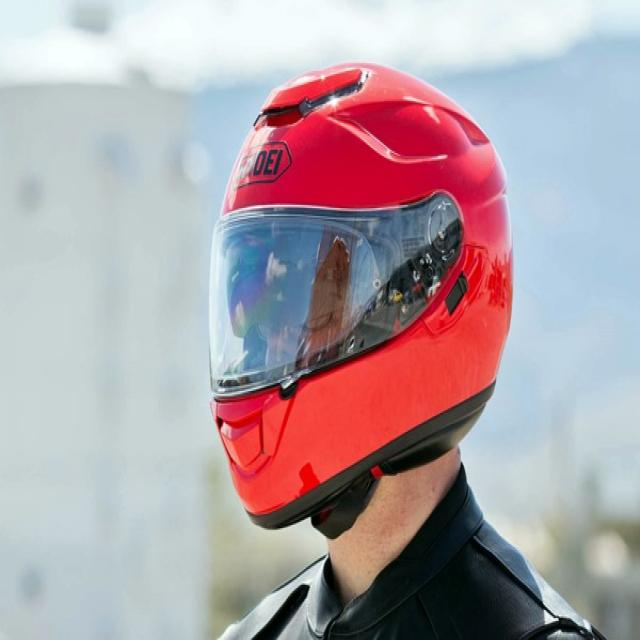Helm: (204, 59, 516, 530)
